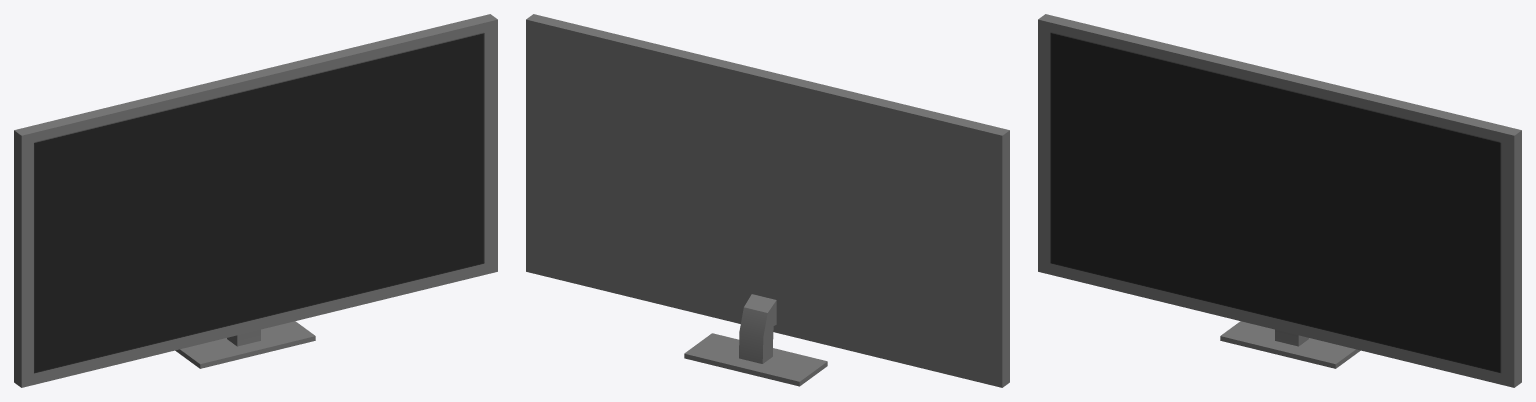
3 renders of one model, left to right at view 1: azimuth 30°, elevation 25°; view 2: azimuth 150°, elevation 25°; view 3: azimuth 330°, elevation 25°, orthographic.
Visible parts, largest first — view 1: TV; view 2: TV; view 3: TV.
Part boxes in pixels (box(x1,y1,x2,y2)): TV: box(14, 14, 497, 387); TV: box(526, 14, 1009, 387); TV: box(1038, 14, 1521, 387).
Size of the model in its own units: 4.66 by 2.6 by 0.5052.
Materials: 1 (1 with a texture image).
